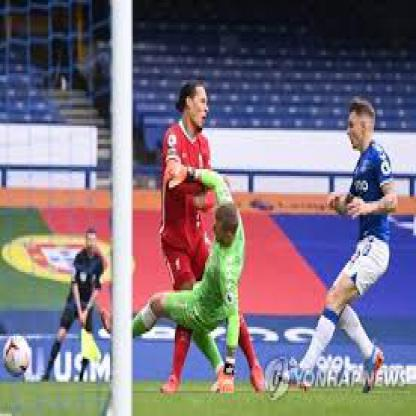Fall_Down: (102, 163, 247, 397)
